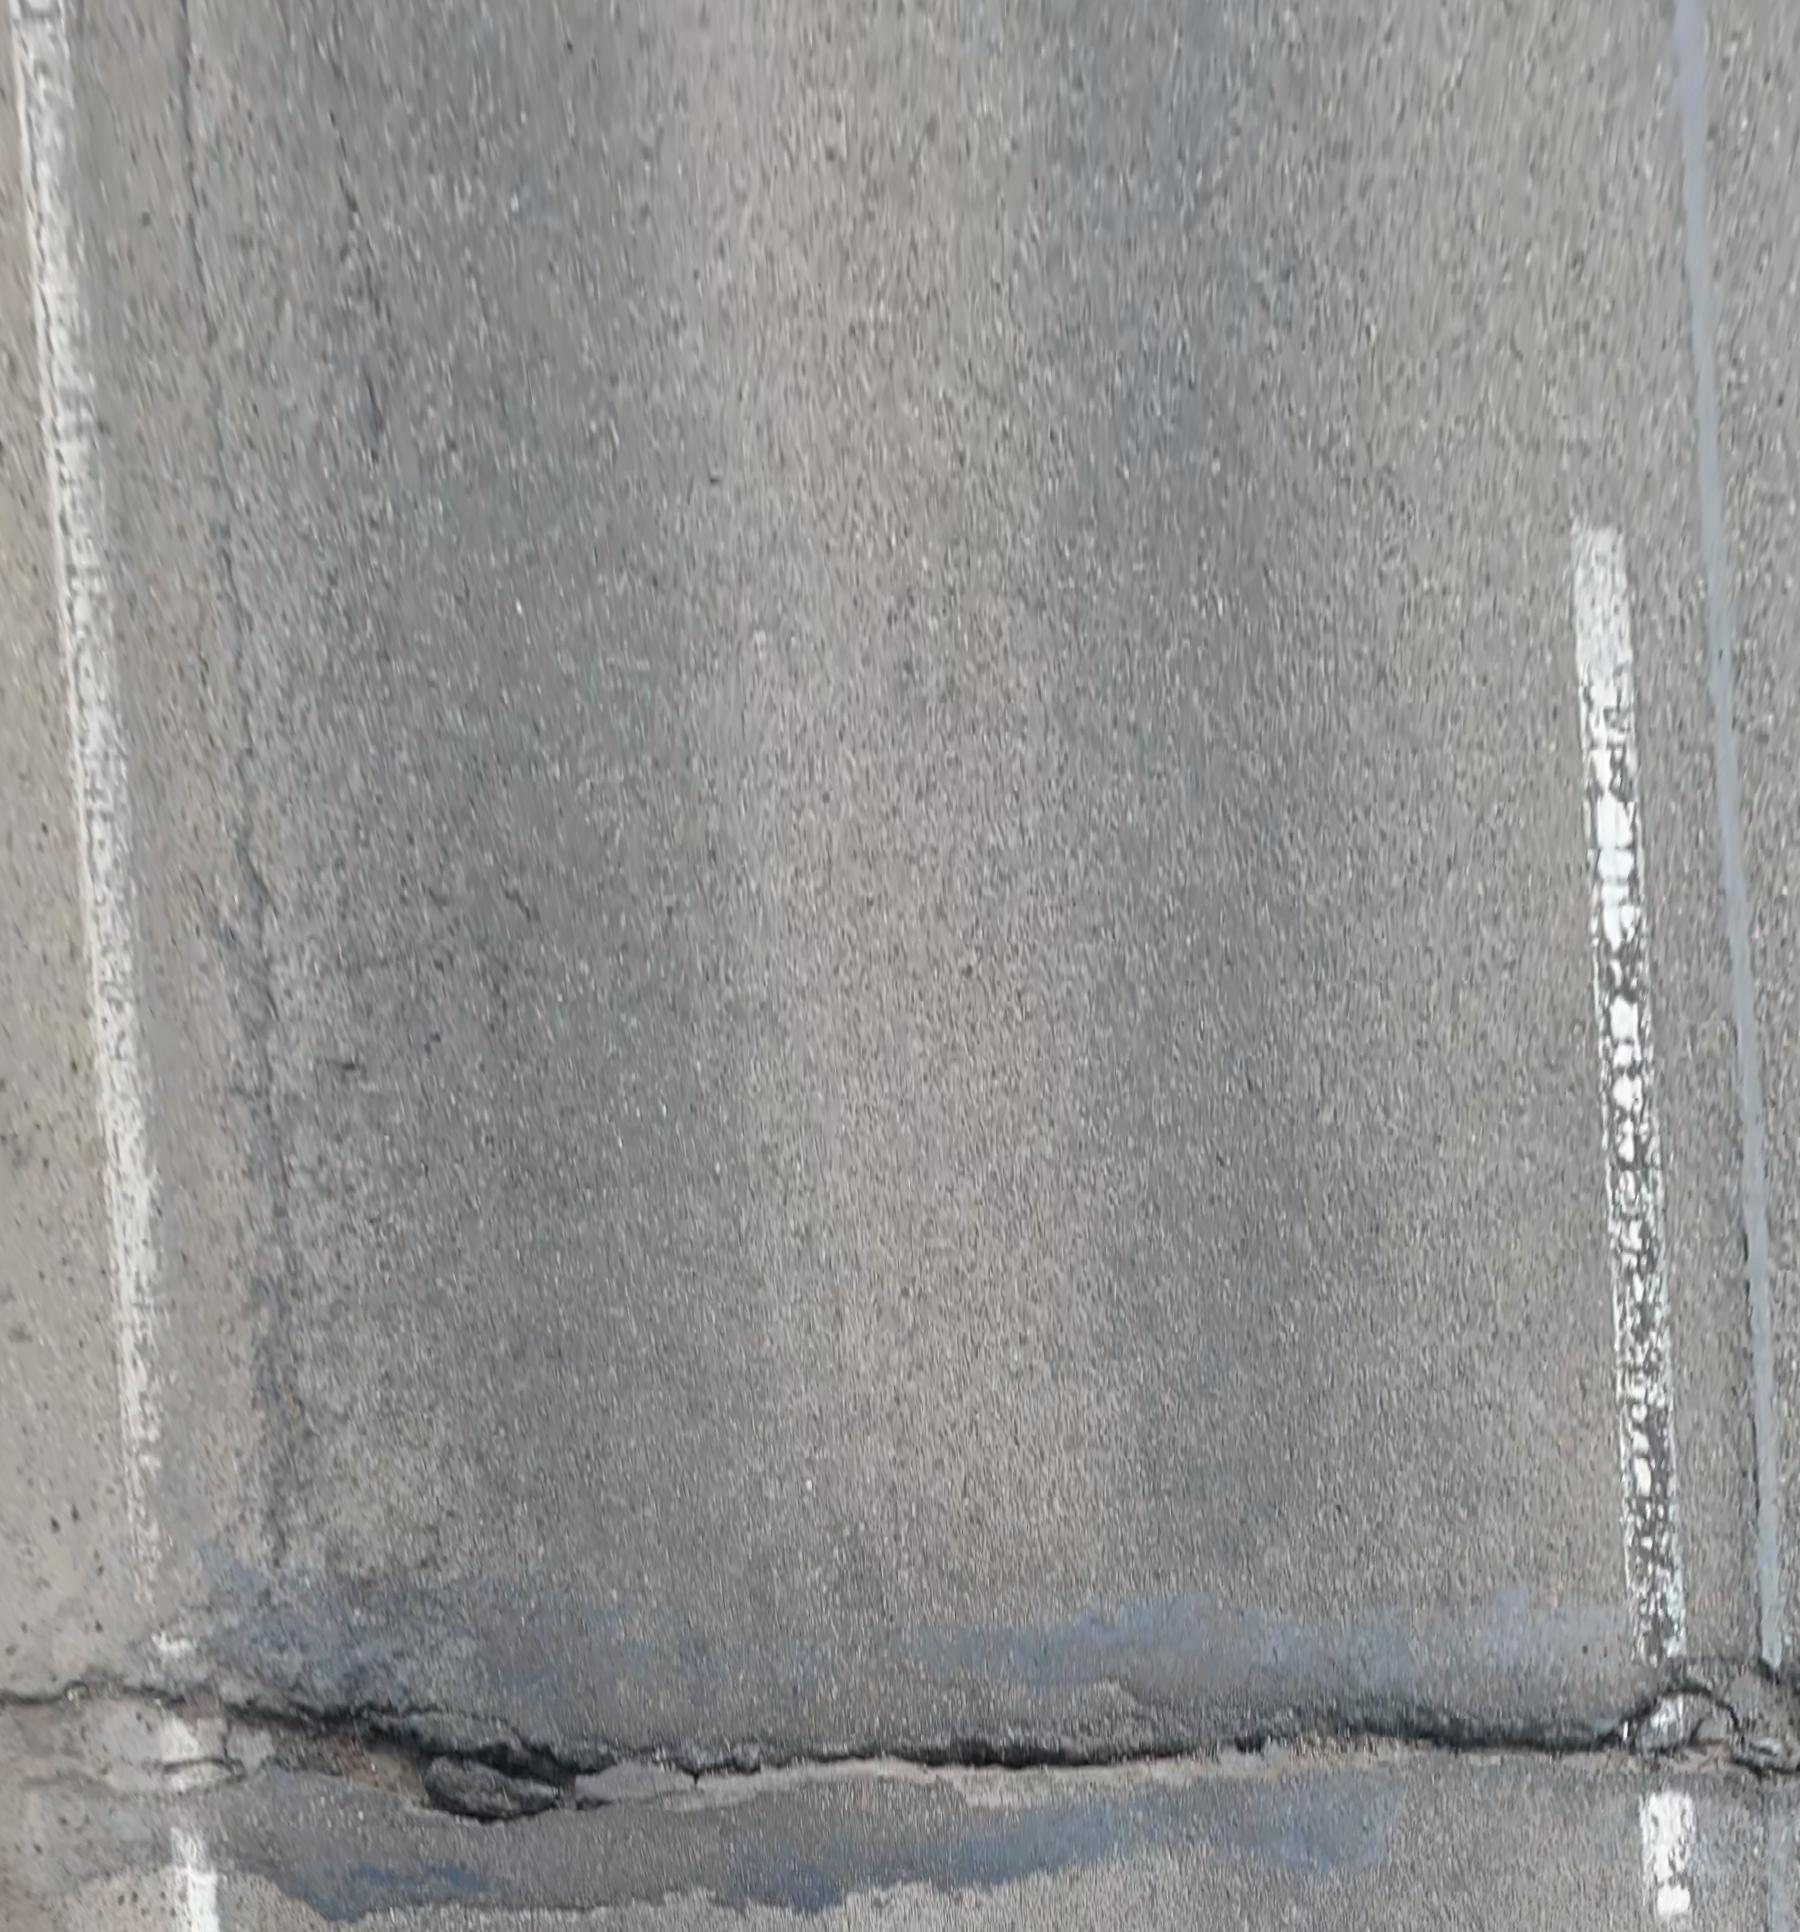pothole: (193, 1685, 440, 1800)
pothole_patch_poor: (3, 1572, 1800, 1925)
